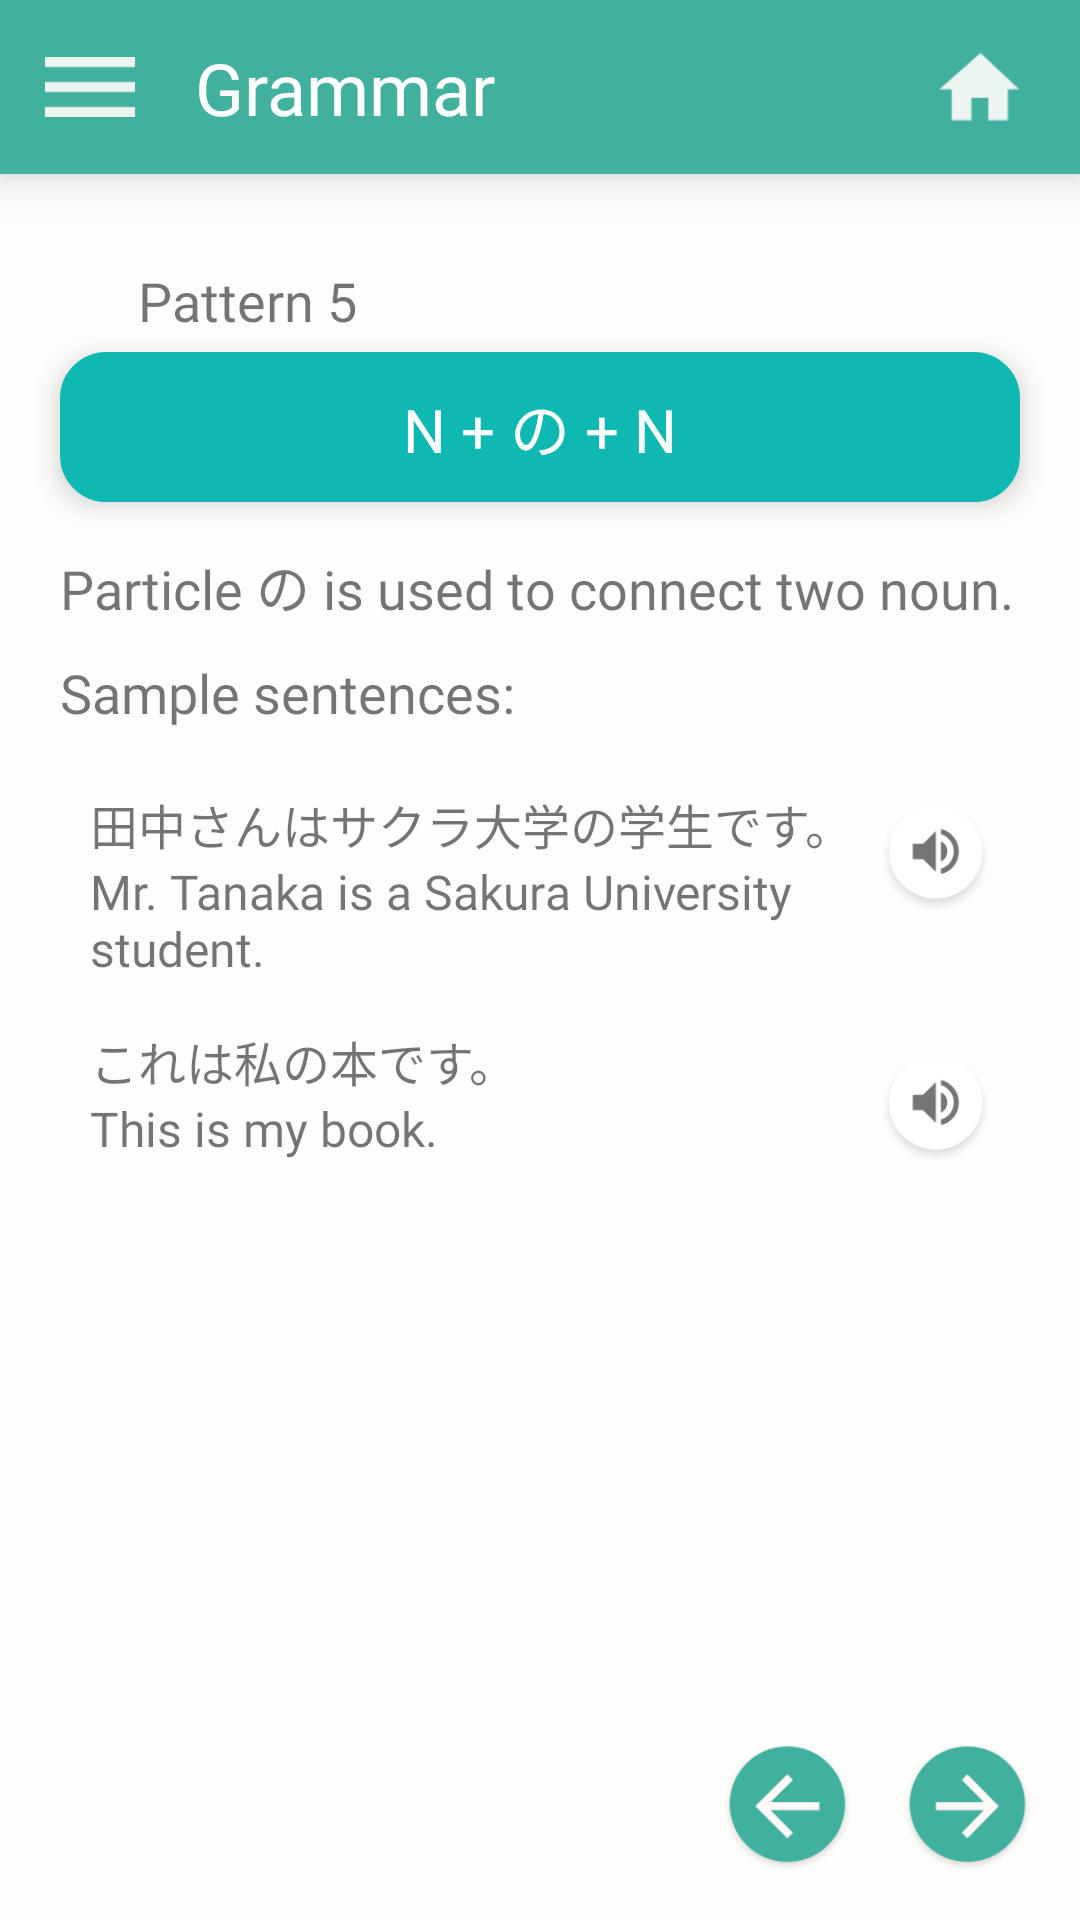

Where to tap for icons on this 1080 × 1920 app screen, as [x,y]:
audio grammar: [936,865], [938,1116]
back: [787,1805]
forward: [967,1805]
home: [979,87]
